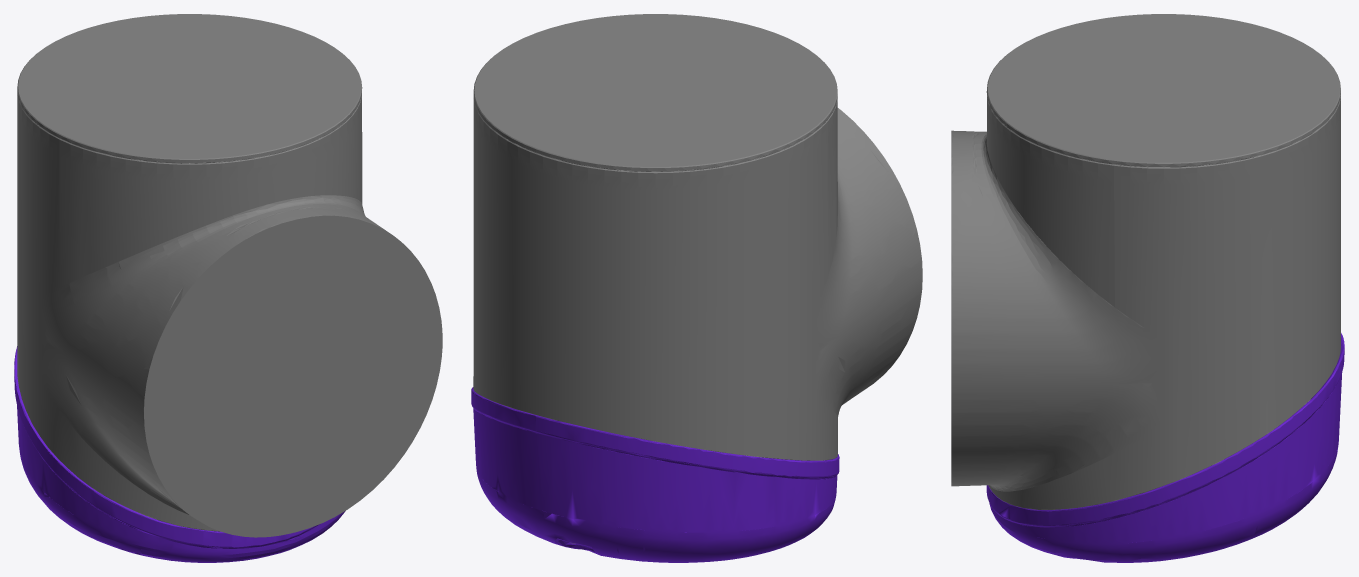
File: wrist1.dae
3 renders of one model, left to right at view 1: azimuth 30°, elevation 25°; view 2: azimuth 150°, elevation 25°; view 3: azimuth 270°, elevation 25°, orthographic. The views are drawn at different scales.
Parts seen in each view (by area): view 1: node-shape0-name, node-shape1-name; view 2: node-shape0-name, node-shape1-name; view 3: node-shape0-name, node-shape1-name.
Part boxes in pixels (x1=…): node-shape0-name: x1=17, y1=14, x2=442, y2=537; node-shape1-name: x1=14, y1=346, x2=345, y2=562; node-shape0-name: x1=473, y1=14, x2=922, y2=460; node-shape1-name: x1=471, y1=387, x2=839, y2=562; node-shape0-name: x1=951, y1=14, x2=1340, y2=509; node-shape1-name: x1=986, y1=333, x2=1344, y2=562.
Size of the model in its own units: 0.091 by 0.0999 by 0.1188.
